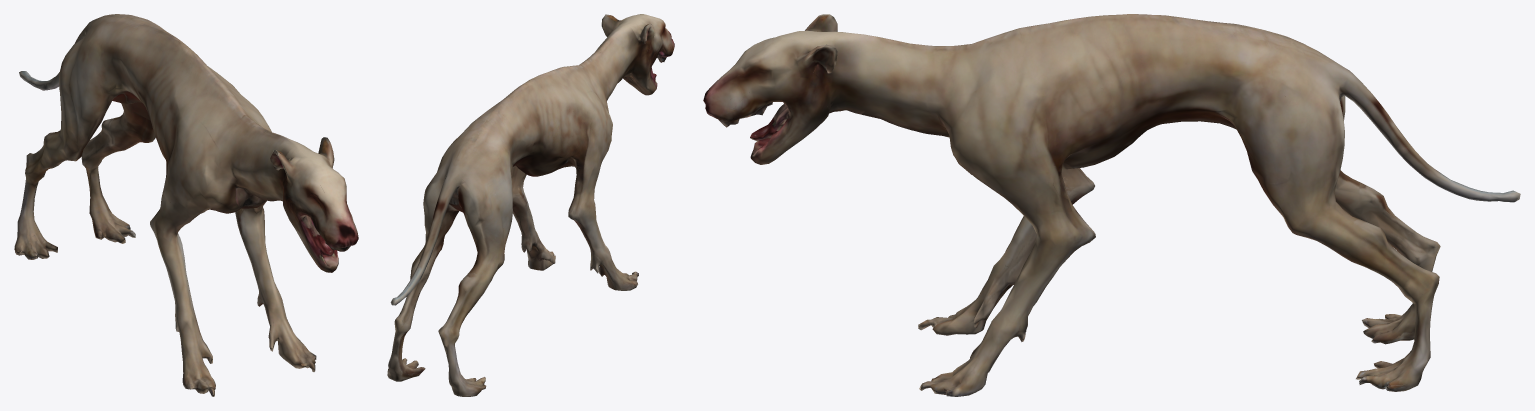
File: Meshy_AI_Backroom_Creature_Enc_0824101528_texture.fbx
3 renders of one model, left to right at view 1: azimuth 30°, elevation 25°; view 2: azimuth 150°, elevation 25°; view 3: azimuth 270°, elevation 25°, orthographic. The views are drawn at different scales.
Visible parts, largest first — view 1: Mesh_0; view 2: Mesh_0; view 3: Mesh_0.
Boxes of the visible parts, <box> form: Mesh_0: <box>14,14,358,396</box>; Mesh_0: <box>387,14,674,396</box>; Mesh_0: <box>703,14,1520,396</box>.
Size of the model in its own units: 44.86 by 94.45 by 201.
Materials: 1 (1 with a texture image).
